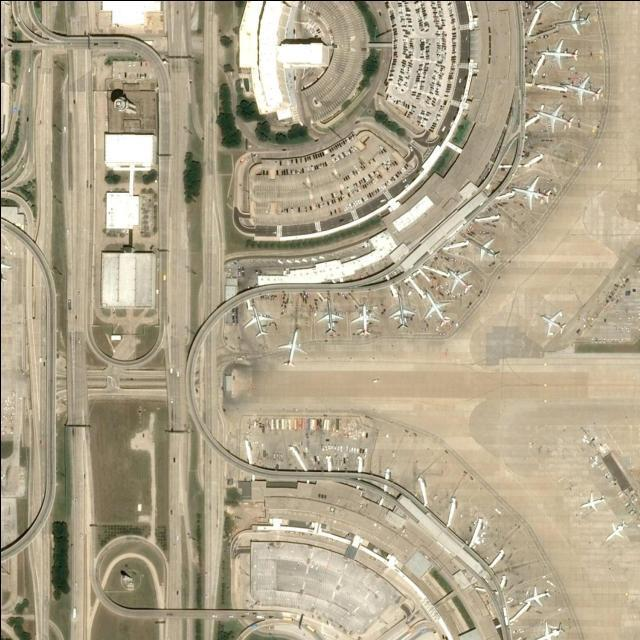Aircraft: (564, 72, 602, 106), (511, 174, 548, 208), (275, 327, 307, 363), (533, 103, 573, 131), (242, 306, 273, 338), (422, 293, 452, 326), (542, 40, 578, 67), (557, 6, 593, 32), (439, 266, 474, 292), (539, 307, 568, 338), (468, 234, 500, 262), (387, 298, 415, 328), (353, 301, 377, 336), (315, 305, 342, 333), (578, 490, 605, 512), (601, 521, 629, 541), (524, 585, 549, 607), (531, 622, 561, 640), (0, 252, 13, 281)
